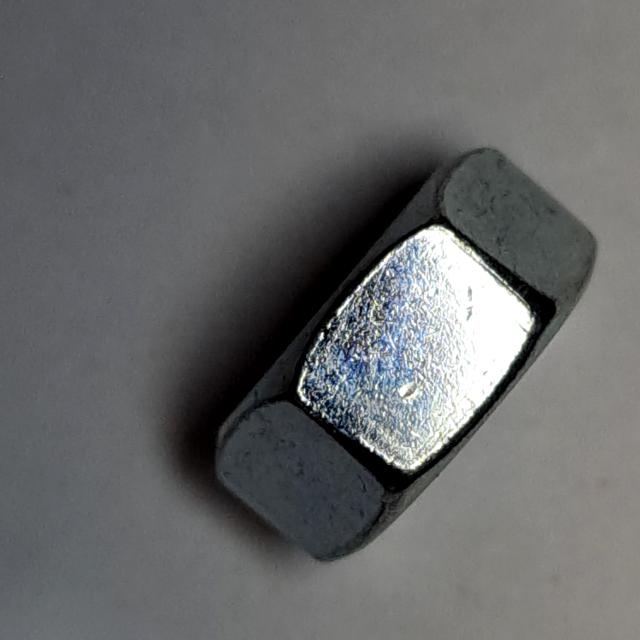Side_Excellent: (201, 136, 609, 575)
